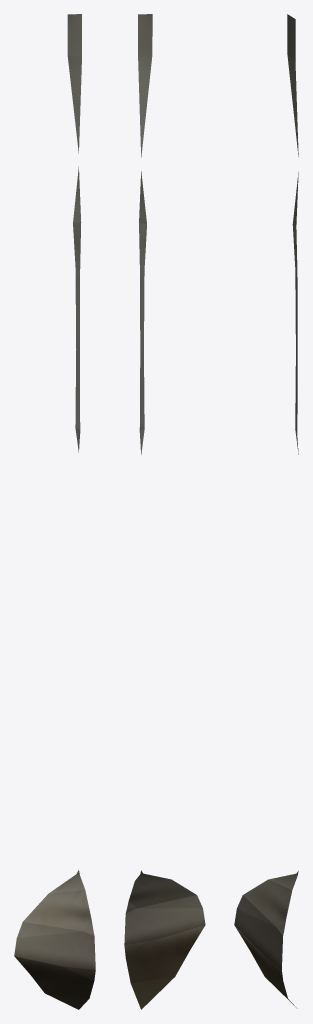
The picture shows the model from 3 angles, left to right: view 1: azimuth 30°, elevation 25°; view 2: azimuth 210°, elevation 25°; view 3: azimuth 330°, elevation 25°; orthographic projection.
Bounding box in the file's own units: 0.054 × 0.7957 × 0.0244.
1 material, 1 textured.
